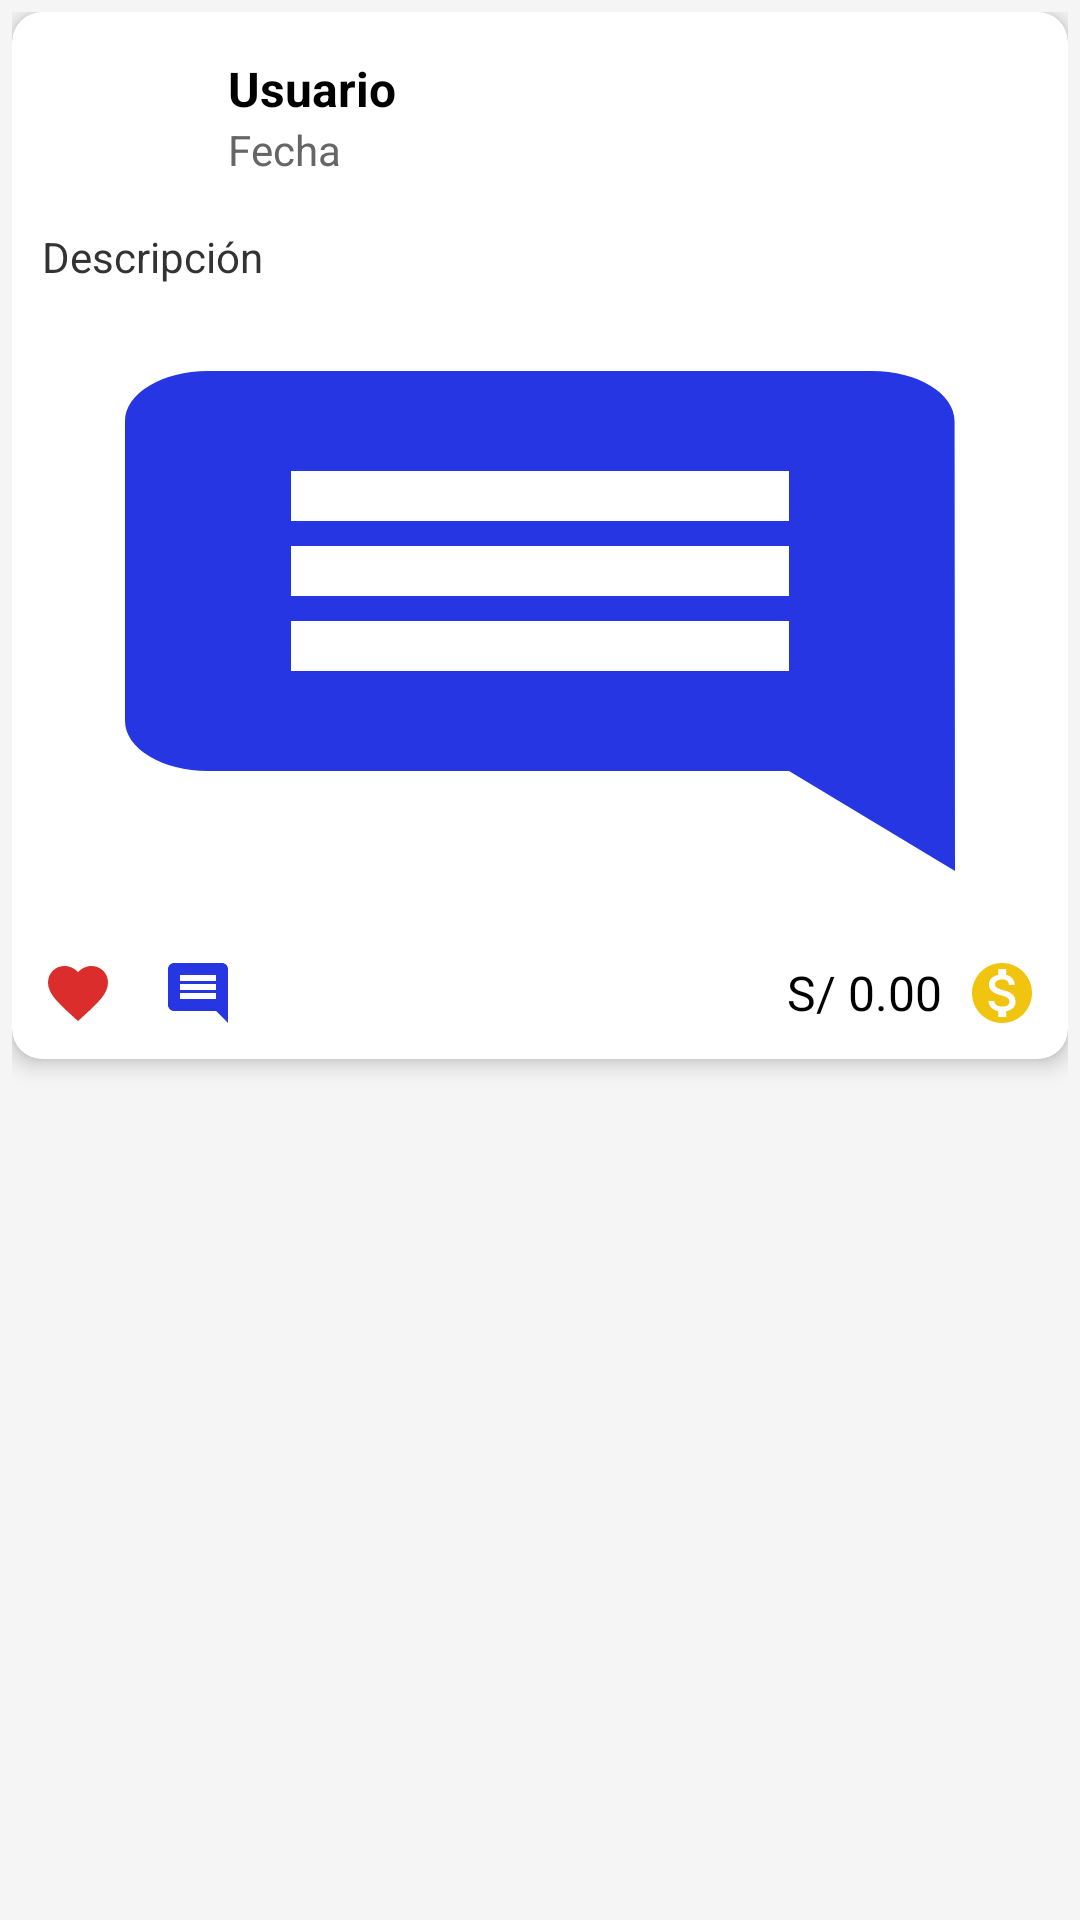

Screen size 1080×1920. Icon name, then its center in pixels as point (x, y):
favorite: point (78, 993)
monetization on: point (1002, 993)
